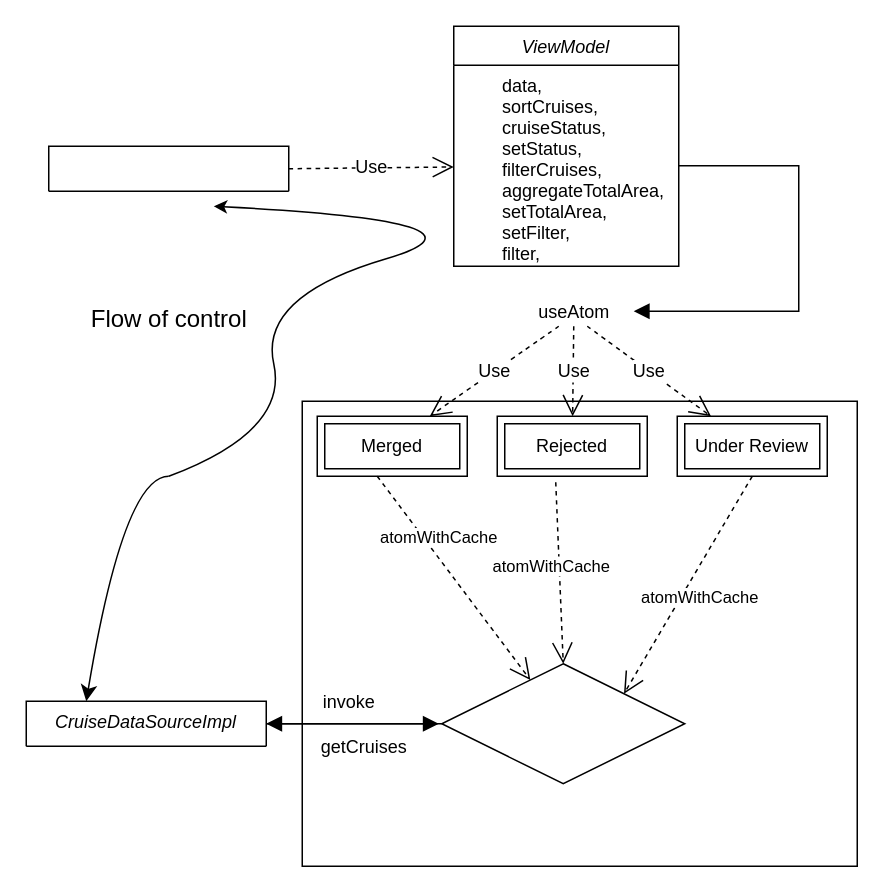
Image size: 884x893. Some labels were removed from this diagram. Here are the shapes that lost their labels. From the top down, the centre of each, then its label:
At (168,168): "CruiseTableView".
At (562,723): "GetCruises(status)".
